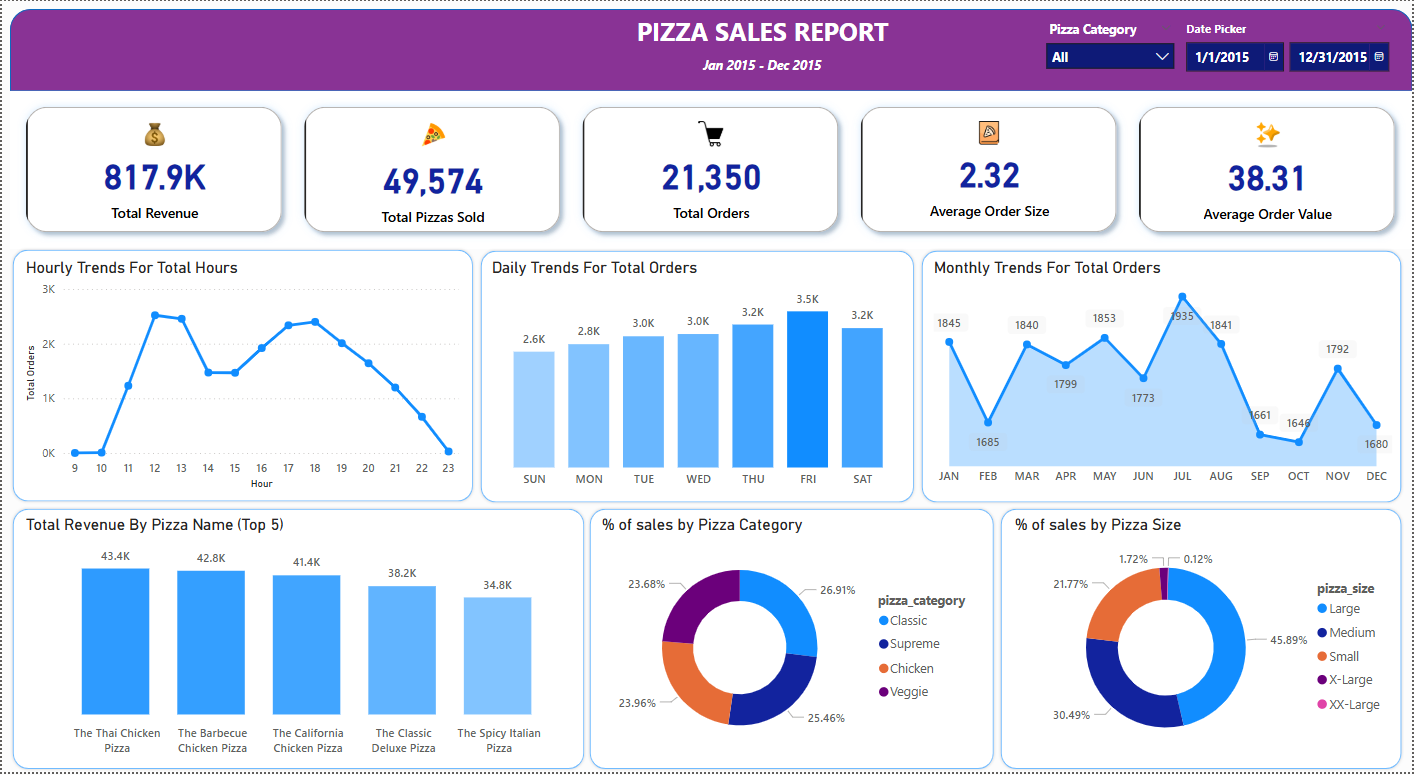

Layout of this report page (visuals, bound fields, positions):
{"tool":"powerbi","page":{"name":"Page 1","canvas":[1500,820],"ordinal":0},"visuals":[{"type":"cardVisual","fields":{"Data":["pizza_sales.Total Revenue","pizza_sales.Total Pizzas Sold","pizza_sales.Total Orders","pizza_sales.Average Order Size","pizza_sales.AOV"]},"box":[8,95.4,1492,167.8],"z":0},{"type":"shape","box":[8,8,1492,87.4],"z":1000},{"type":"textbox","box":[670.1,8,296.6,52.9],"z":2000},{"type":"textbox","box":[740.2,54,156.3,33.3],"z":3000},{"type":"shape","box":[506.9,263.2,466.7,273.6],"z":4000},{"type":"columnChart","title":"Daily Trends For Total Orders","fields":{"Category":["pizza_sales.Day Name"],"Y":["pizza_sales.Total Orders"]},"box":[516.1,273.6,450.6,252.9],"z":5000},{"type":"shape","box":[975.9,263.2,516.1,273.6],"z":6000},{"type":"areaChart","title":"Monthly Trends For Total Orders","fields":{"Category":["pizza_sales.Order Month"],"Y":["pizza_sales.Total Orders"]},"box":[986.2,273.6,497.7,250.6],"z":7000},{"type":"shape","box":[621.8,536.8,435.6,282.8],"z":8000},{"type":"shape","box":[1059.8,536.8,432.2,282.8],"z":9000},{"type":"donutChart","title":"% of sales by Pizza Category","fields":{"Category":["pizza_sales.pizza_category"],"Y":["pizza_sales.Total Revenue"]},"box":[633.3,547.1,412.6,263.2],"z":10000},{"type":"donutChart","title":"% of sales by Pizza Size","fields":{"Category":["pizza_sales.pizza_size"],"Y":["pizza_sales.Total Revenue"]},"box":[1072.4,547.1,411.5,263.2],"z":11000},{"type":"shape","box":[8,536.8,613.8,282.8],"z":12000},{"type":"columnChart","title":"Total Revenue By Pizza  Name (Top 5)","fields":{"Category":["pizza_sales.pizza_name"],"Y":["pizza_sales.Total Revenue"]},"box":[20.7,547.1,592,263.2],"z":13000},{"type":"shape","box":[8,262.1,495.4,273.6],"z":14000},{"type":"lineChart","title":"Hourly Trends For Total Hours","fields":{"Category":["pizza_sales.Hour"],"Y":["pizza_sales.Total Orders"]},"box":[20.7,273.6,471.3,250.6],"z":15000},{"type":"slicer","fields":{"Values":["pizza_sales.pizza_category"]},"box":[1101.1,15.6,155.6,58.9],"z":16000},{"type":"slicer","fields":{"Values":["pizza_sales.order_date"]},"box":[1246.7,15.6,237.8,58.9],"z":17000}]}

Visuals, with their boxes in screenshot pixels (x1, y1, x2, y2), scaled from the page's 1500x820 canvas onto the 1414x775 screenshot:
cardVisual - pizza_sales.Total Revenue x pizza_sales.Total Pizzas Sold: crop(8, 90, 1413, 249)
shape: crop(8, 8, 1413, 90)
textbox: crop(632, 8, 911, 58)
textbox: crop(698, 51, 845, 83)
shape: crop(478, 249, 918, 507)
"Daily Trends For Total Orders" columnChart: crop(487, 259, 911, 498)
shape: crop(920, 249, 1406, 507)
"Monthly Trends For Total Orders" areaChart: crop(930, 259, 1399, 495)
shape: crop(586, 507, 997, 774)
shape: crop(999, 507, 1406, 774)
"% of sales by Pizza Category" donutChart: crop(597, 517, 986, 766)
"% of sales by Pizza Size" donutChart: crop(1011, 517, 1399, 766)
shape: crop(8, 507, 586, 774)
"Total Revenue By Pizza  Name (Top 5)" columnChart: crop(20, 517, 578, 766)
shape: crop(8, 248, 475, 506)
"Hourly Trends For Total Hours" lineChart: crop(20, 259, 464, 495)
slicer - pizza_sales.pizza_category: crop(1038, 15, 1185, 70)
slicer - pizza_sales.order_date: crop(1175, 15, 1399, 70)
